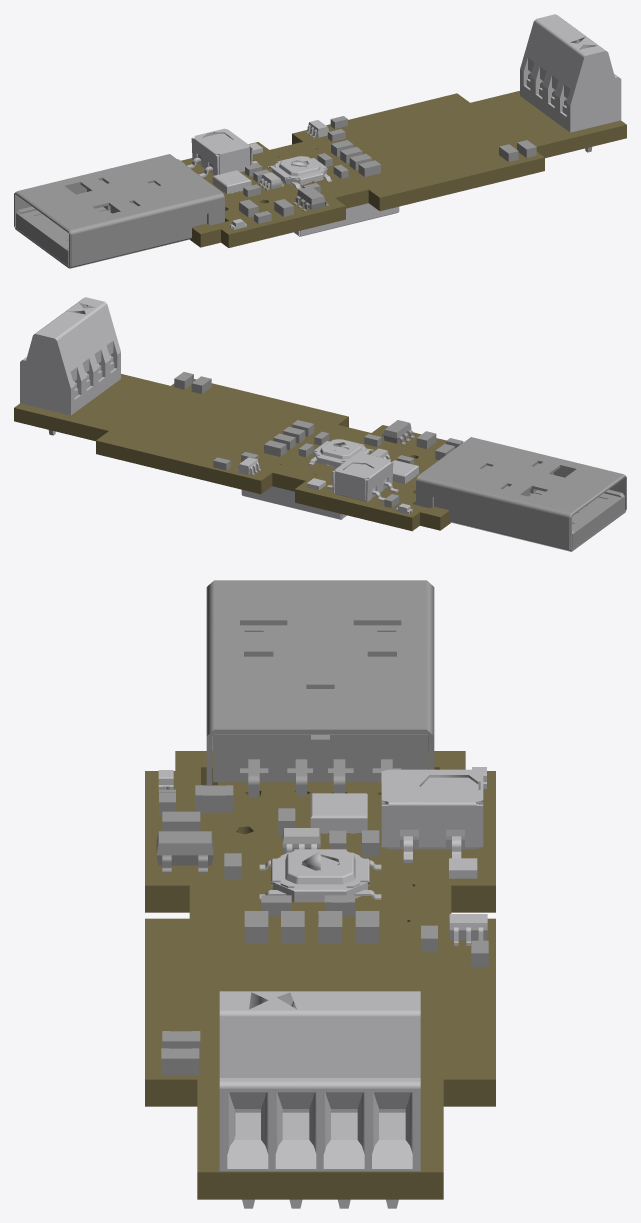
File: ada-6332.glb
3 views of the same model, one above another, from view 1: azimuth 30°, elevation 25°; view 2: azimuth 150°, elevation 25°; view 3: azimuth 270°, elevation 25° (orthographic). The views are drawn at different scales.
Visible parts, largest first — view 1: 0.16666666666666666_0.16666666666666666_0.08333333333333333_, 0.3333333333333333_0.3333333333333333_0.3333333333333333_0, 0.5833333333333334_0.5833333333333334_0.5833333333333334_0.8; view 2: 0.16666666666666666_0.16666666666666666_0.08333333333333333_, 0.3333333333333333_0.3333333333333333_0.3333333333333333_0, 0.5833333333333334_0.5833333333333334_0.5833333333333334_0.8; view 3: 0.16666666666666666_0.16666666666666666_0.08333333333333333_, 0.3333333333333333_0.3333333333333333_0.3333333333333333_0, 0.5833333333333334_0.5833333333333334_0.5833333333333334_0.8, 0.5_0.5_0.5_0.85.
Part boxes in pixels (bbox=[...]): 0.16666666666666666_0.16666666666666666_0.08333333333333333_: bbox=[181, 91, 626, 247]; 0.3333333333333333_0.3333333333333333_0.3333333333333333_0: bbox=[14, 116, 536, 268]; 0.5833333333333334_0.5833333333333334_0.5833333333333334_0.8: bbox=[186, 14, 621, 236]; 0.16666666666666666_0.16666666666666666_0.08333333333333333_: bbox=[14, 374, 450, 531]; 0.3333333333333333_0.3333333333333333_0.3333333333333333_0: bbox=[174, 372, 626, 551]; 0.5833333333333334_0.5833333333333334_0.5833333333333334_0.8: bbox=[20, 297, 418, 519]; 0.16666666666666666_0.16666666666666666_0.08333333333333333_: bbox=[145, 751, 495, 1199]; 0.3333333333333333_0.3333333333333333_0.3333333333333333_0: bbox=[156, 580, 488, 1075]; 0.5833333333333334_0.5833333333333334_0.5833333333333334_0.8: bbox=[158, 767, 487, 1208]; 0.5_0.5_0.5_0.85: bbox=[282, 828, 320, 853].
Bounding box in the file's own units: 6.74 × 1.27 × 1.85.
